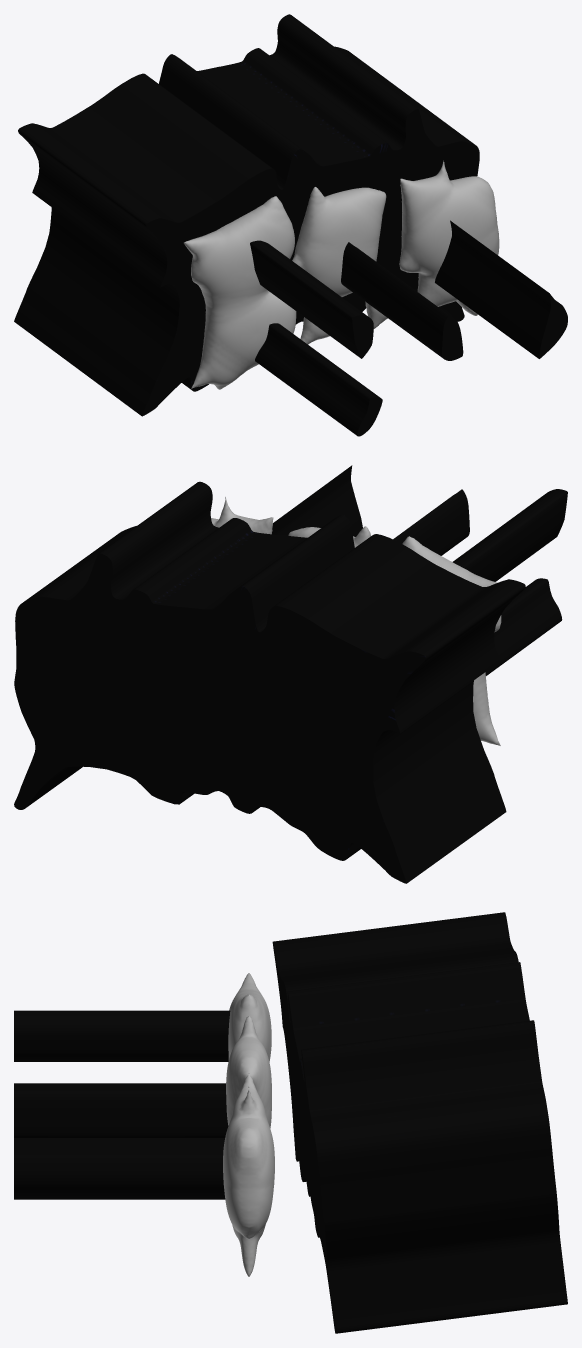
File: bad.glb
3 renders of one model, top to bottom at view 1: azimuth 30°, elevation 25°; view 2: azimuth 150°, elevation 25°; view 3: azimuth 270°, elevation 25°, orthographic. The views are drawn at different scales.
Parts seen in each view (by area): view 1: mesh_id67, mesh_id44, mesh_id35, mesh_id55, mesh_id49, mesh_id29, mesh_id33, mesh_id31; view 2: mesh_id67, mesh_id31, mesh_id29, mesh_id35, mesh_id33, mesh_id44, mesh_id55; view 3: mesh_id67, mesh_id35, mesh_id33, mesh_id31, mesh_id55, mesh_id49, mesh_id44.
Part boxes in pixels (x1,y1,x2,y2): mesh_id67: (14, 14, 479, 416); mesh_id44: (184, 196, 296, 389); mesh_id35: (435, 220, 567, 358); mesh_id55: (399, 160, 499, 315); mesh_id49: (292, 187, 387, 344); mesh_id29: (255, 323, 382, 436); mesh_id33: (341, 242, 463, 360); mesh_id31: (250, 240, 373, 358); mesh_id67: (14, 481, 525, 883); mesh_id31: (453, 489, 567, 581); mesh_id29: (485, 578, 562, 675); mesh_id35: (272, 465, 362, 536); mesh_id33: (393, 489, 469, 555); mesh_id44: (402, 536, 501, 745); mesh_id55: (211, 496, 273, 534); mesh_id67: (272, 912, 567, 1333); mesh_id35: (14, 1138, 225, 1199); mesh_id33: (14, 1083, 228, 1136); mesh_id31: (14, 1010, 230, 1061); mesh_id55: (223, 1073, 274, 1276); mesh_id49: (226, 1016, 271, 1126); mesh_id44: (228, 973, 271, 1128).
Size of the model in its own units: 0.1944 by 0.1277 by 0.2362.
8 materials, 8 textured.
